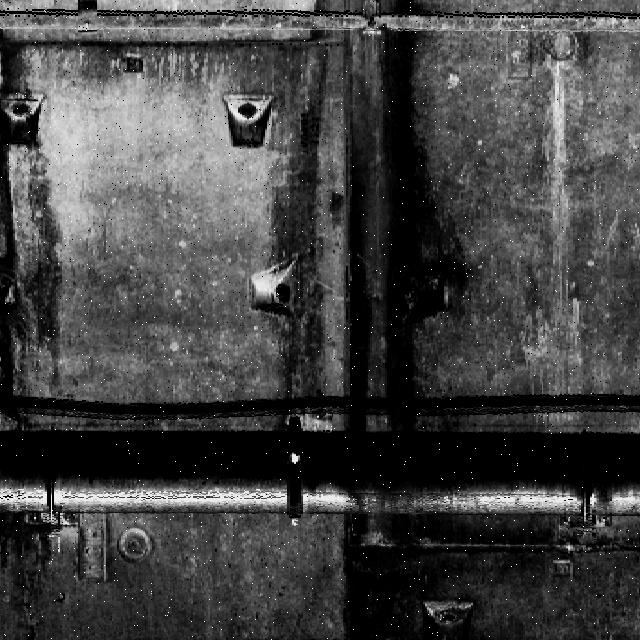leakage: (274, 6, 476, 639), (1, 19, 64, 425), (1, 502, 58, 582)
